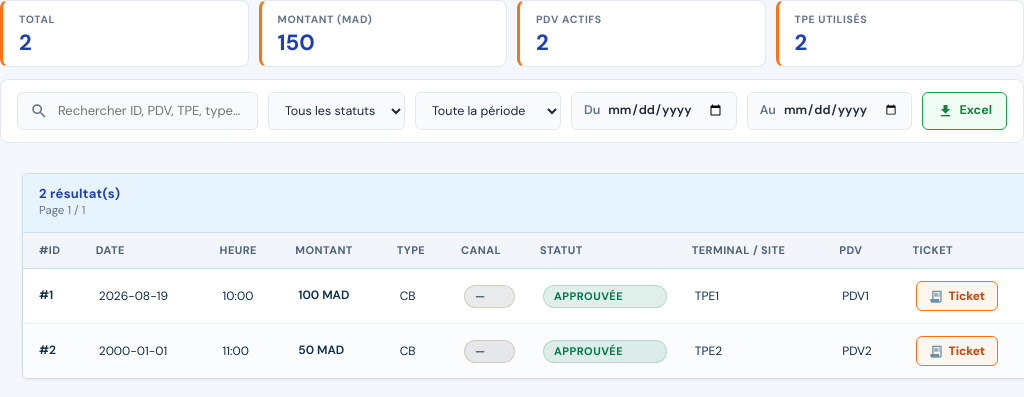
it: CommercantTransactionsPage › filtre par preset de période (7/30/90 jours / toute la période)
This screenshot has width=1024, height=397.
Check: the text "#1" is shown, box [39,287,53,303]
Check: the text "#2" is shown, box [39,342,56,358]
Select "7 derniers jours" in the dropdown named "Période": (488, 111) [415,92,561,130]
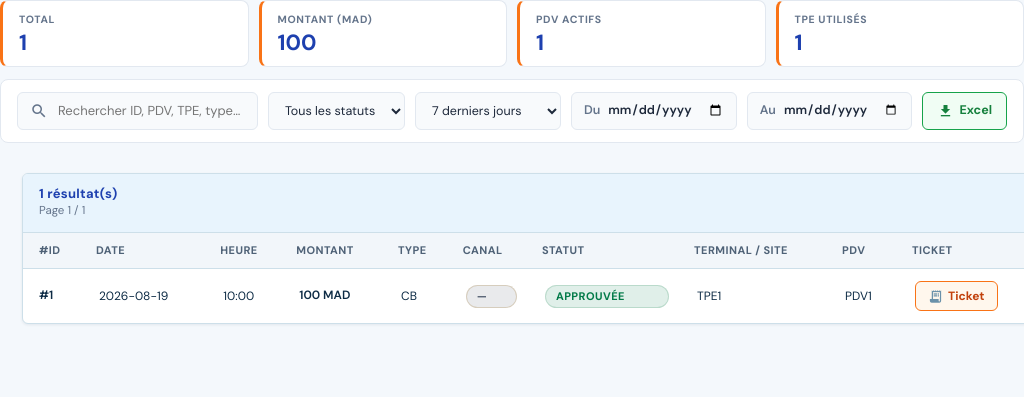
Check: the text "#1" is shown, box [39,287,53,303]
Check: the text "#2" is gone
